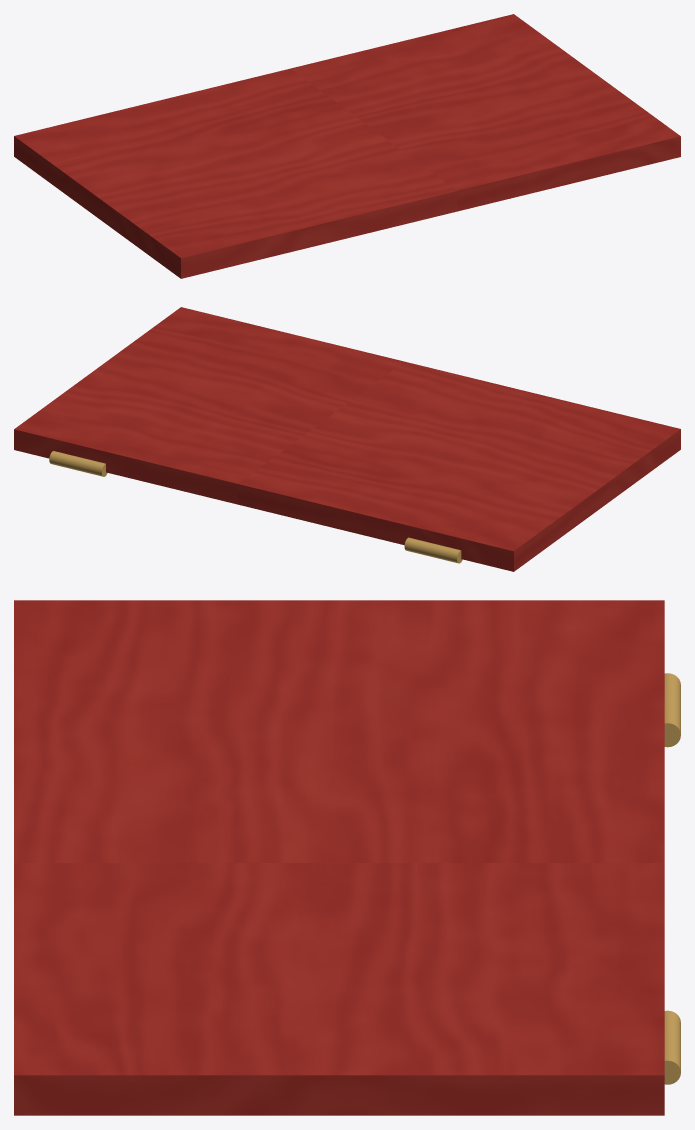
File: lid_red.glb
3 renders of one model, top to bottom at view 1: azimuth 30°, elevation 25°; view 2: azimuth 150°, elevation 25°; view 3: azimuth 270°, elevation 25°, orthographic. The views are drawn at different scales.
Parts seen in each view (by area): view 1: lid_red; view 2: lid_red; view 3: lid_red.
Part boxes in pixels (x1,y1,x2,y2): lid_red: (14,14,680,278); lid_red: (14,307,680,571); lid_red: (14,600,680,1115).
Bounding box in the file's own units: 0.38 × 0.0175 × 0.2255.
3 materials, 2 textured.
